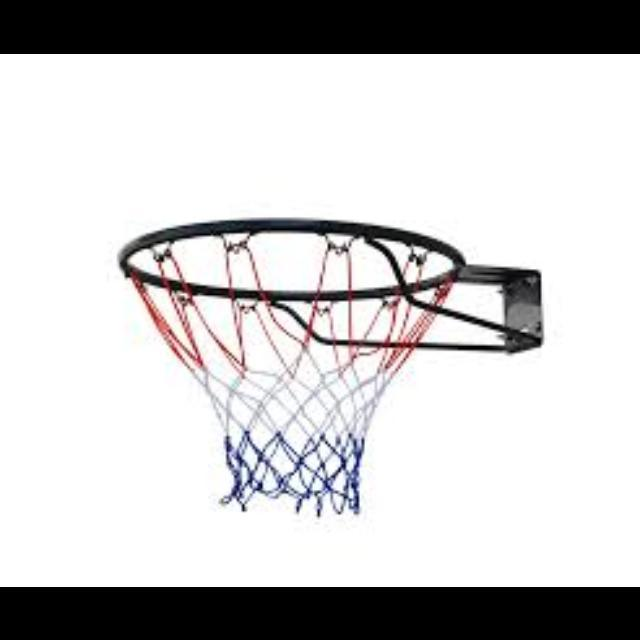rim: (117, 216, 459, 516)
